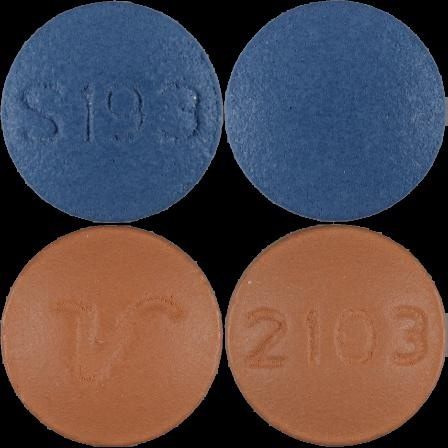55289-014: (0, 0, 224, 224)
